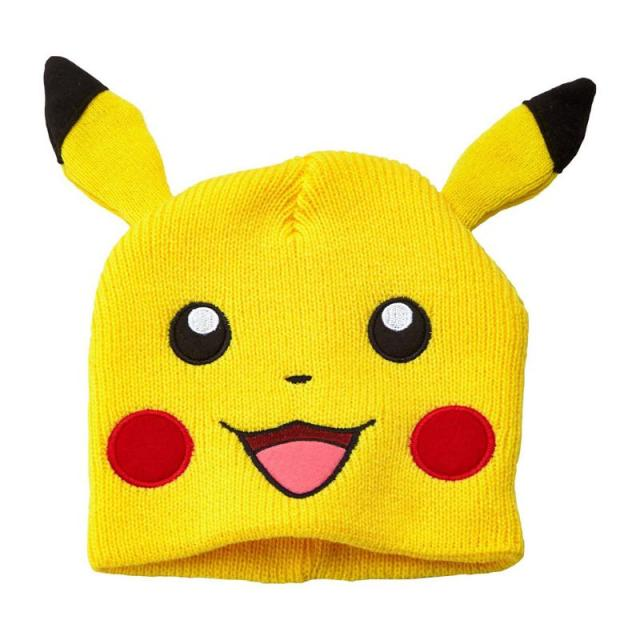pikachu: (43, 57, 598, 584)
